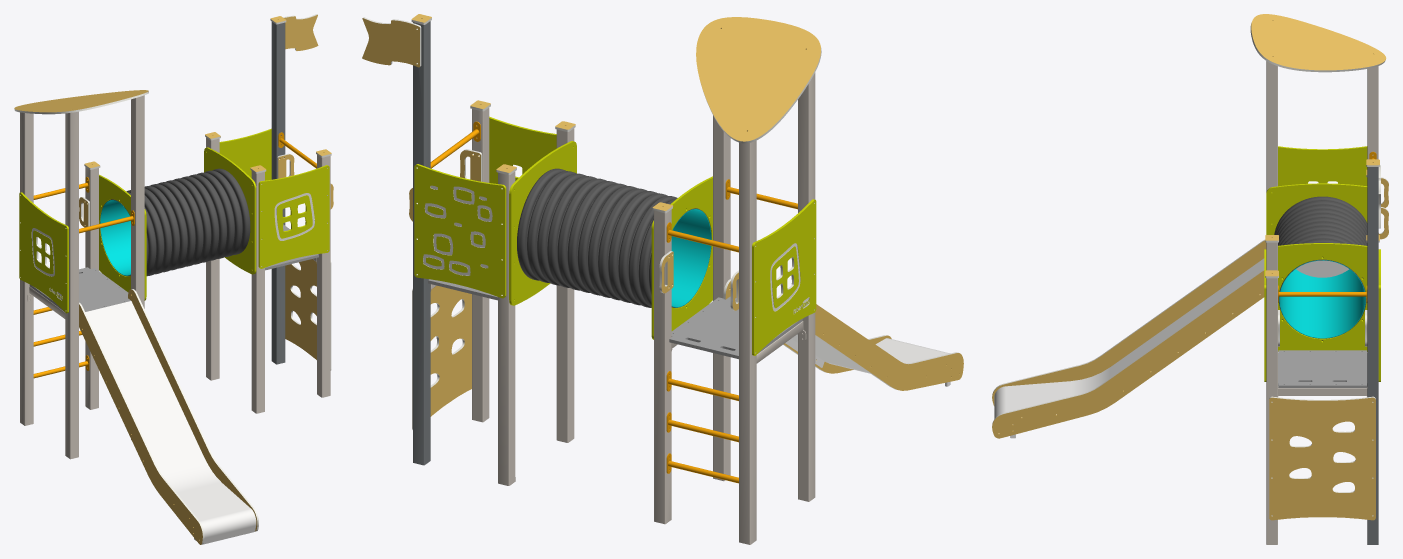
File: lekland-xl.glb
3 renders of one model, left to right at view 1: azimuth 30°, elevation 25°; view 2: azimuth 150°, elevation 25°; view 3: azimuth 270°, elevation 25°, orthographic. The views are drawn at different scales.
Parts seen in each view (by area): view 1: Root|FLFJ014_Eco_kettornyu_jv_1200_D_OSZ|Root|beige_low_glos, Root|FLFJ014_Eco_kettornyu_jv_1200_D_OSZ|Root|white-pw-mt110, Root|FLFJ014_Eco_kettornyu_jv_1200_D_OSZ|Root|matte_steel, Root|FLFJ014_Eco_kettornyu_jv_1200_D_OSZ|Root|white_low_glos, Root|FLFJ014_Eco_kettornyu_jv_1200_D_OSZ|Root|light_grey_low, Root|FLFJ014_Eco_kettornyu_jv_1200_D_OSZ|Root|red_low_gloss_; view 2: Root|FLFJ014_Eco_kettornyu_jv_1200_D_OSZ|Root|beige_low_glos, Root|FLFJ014_Eco_kettornyu_jv_1200_D_OSZ|Root|white-pw-mt110, Root|FLFJ014_Eco_kettornyu_jv_1200_D_OSZ|Root|white_low_glos, Root|FLFJ014_Eco_kettornyu_jv_1200_D_OSZ|Root|light_grey_low, Root|FLFJ014_Eco_kettornyu_jv_1200_D_OSZ|Root|red_low_gloss_, Root|FLFJ014_Eco_kettornyu_jv_1200_D_OSZ|Root|matte_steel; view 3: Root|FLFJ014_Eco_kettornyu_jv_1200_D_OSZ|Root|beige_low_glos, Root|FLFJ014_Eco_kettornyu_jv_1200_D_OSZ|Root|white-pw-mt110, Root|FLFJ014_Eco_kettornyu_jv_1200_D_OSZ|Root|white_low_glos, Root|FLFJ014_Eco_kettornyu_jv_1200_D_OSZ|Root|light_grey_low, Root|FLFJ014_Eco_kettornyu_jv_1200_D_OSZ|Root|matte_steel, Root|FLFJ014_Eco_kettornyu_jv_1200_D_OSZ|Root|red_low_gloss_.
Part boxes in pixels (<box>): Root|FLFJ014_Eco_kettornyu_jv_1200_D_OSZ|Root|beige_low_glos: <box>14,14,333,544</box>; Root|FLFJ014_Eco_kettornyu_jv_1200_D_OSZ|Root|white-pw-mt110: <box>19,128,329,313</box>; Root|FLFJ014_Eco_kettornyu_jv_1200_D_OSZ|Root|matte_steel: <box>85,301,256,544</box>; Root|FLFJ014_Eco_kettornyu_jv_1200_D_OSZ|Root|white_low_glos: <box>100,168,250,276</box>; Root|FLFJ014_Eco_kettornyu_jv_1200_D_OSZ|Root|light_grey_low: <box>29,224,318,311</box>; Root|FLFJ014_Eco_kettornyu_jv_1200_D_OSZ|Root|red_low_gloss_: <box>33,132,316,378</box>; Root|FLFJ014_Eco_kettornyu_jv_1200_D_OSZ|Root|beige_low_glos: <box>362,14,963,544</box>; Root|FLFJ014_Eco_kettornyu_jv_1200_D_OSZ|Root|white-pw-mt110: <box>414,116,816,355</box>; Root|FLFJ014_Eco_kettornyu_jv_1200_D_OSZ|Root|white_low_glos: <box>517,168,711,307</box>; Root|FLFJ014_Eco_kettornyu_jv_1200_D_OSZ|Root|light_grey_low: <box>428,267,802,359</box>; Root|FLFJ014_Eco_kettornyu_jv_1200_D_OSZ|Root|red_low_gloss_: <box>430,121,797,483</box>; Root|FLFJ014_Eco_kettornyu_jv_1200_D_OSZ|Root|matte_steel: <box>785,334,950,386</box>; Root|FLFJ014_Eco_kettornyu_jv_1200_D_OSZ|Root|beige_low_glos: <box>992,14,1388,544</box>; Root|FLFJ014_Eco_kettornyu_jv_1200_D_OSZ|Root|white-pw-mt110: <box>1264,146,1380,381</box>; Root|FLFJ014_Eco_kettornyu_jv_1200_D_OSZ|Root|white_low_glos: <box>1274,196,1367,340</box>; Root|FLFJ014_Eco_kettornyu_jv_1200_D_OSZ|Root|light_grey_low: <box>1278,260,1367,388</box>; Root|FLFJ014_Eco_kettornyu_jv_1200_D_OSZ|Root|matte_steel: <box>994,258,1264,438</box>; Root|FLFJ014_Eco_kettornyu_jv_1200_D_OSZ|Root|red_low_gloss_: <box>1278,151,1376,302</box>.
Bounding box in the file's own units: 2.77 × 3 × 2.75.
6 materials, 6 textured.
